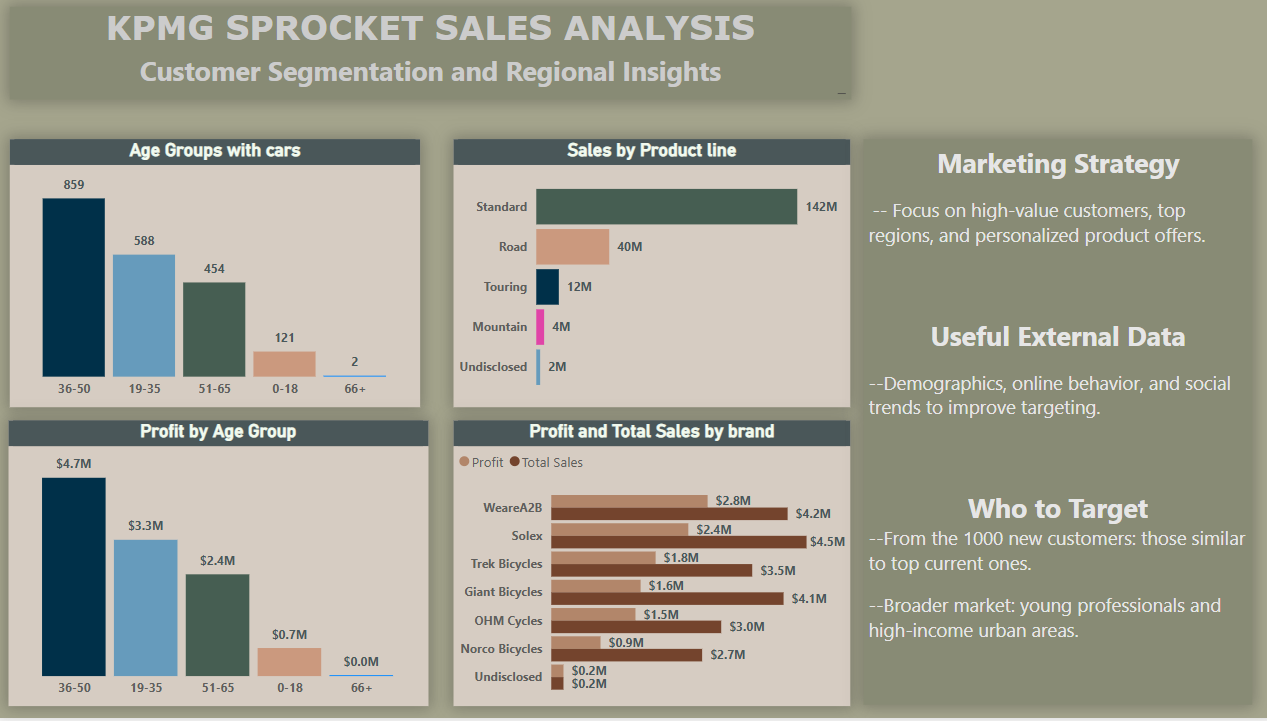

What the dashboard file says about the page in this screenshot:
{"tool":"powerbi","page":{"name":"Page 3","canvas":[1280,720],"ordinal":2},"visuals":[{"type":"columnChart","title":"Age Groups with cars","fields":{"Category":["Customers Demographic.Age Group"],"Y":["Customers Demographic.HaveCars"]},"box":[13.6,141.8,410.6,267.7],"z":0},{"type":"columnChart","fields":{"Category":["Customers Demographic.Age Group"],"Y":["Transactions.Total Profit"]},"box":[12.5,421.9,419.7,285.8],"z":1000},{"type":"barChart","title":"Sales by Product line","fields":{"Category":["Transactions.product_line"],"Y":["Sum(Transactions.transaction_id)"]},"box":[457.1,141.8,397,267.7],"z":2000},{"type":"clusteredBarChart","fields":{"Category":["Transactions.brand"],"Y":["Transactions.Total Profit","Transactions.Total Sales"]},"box":[457.1,421.9,397,285.8],"z":3000},{"type":"textbox","title":"KPMG SPROCKET SALES ANALYSIS","box":[27.6,18,1226.1,92.3],"z":4000},{"type":"textbox","title":"KPMG SPROCKET SALES ANALYSIS","box":[867.7,141.8,389,566],"z":5000}]}

Visuals, with their boxes in screenshot pixels (x1, y1, x2, y2), scaled from the page's 1280x720 canvas onto the 1267x721 screenshot:
"Age Groups with cars" columnChart: detection(13, 142, 420, 410)
columnChart - Customers Demographic.Age Group x Transactions.Total Profit: detection(12, 422, 428, 709)
"Sales by Product line" barChart: detection(452, 142, 845, 410)
clusteredBarChart - Transactions.brand x Transactions.Total Profit: detection(452, 422, 845, 709)
"KPMG SPROCKET SALES ANALYSIS" textbox: detection(27, 18, 1241, 110)
"KPMG SPROCKET SALES ANALYSIS" textbox: detection(859, 142, 1244, 709)
